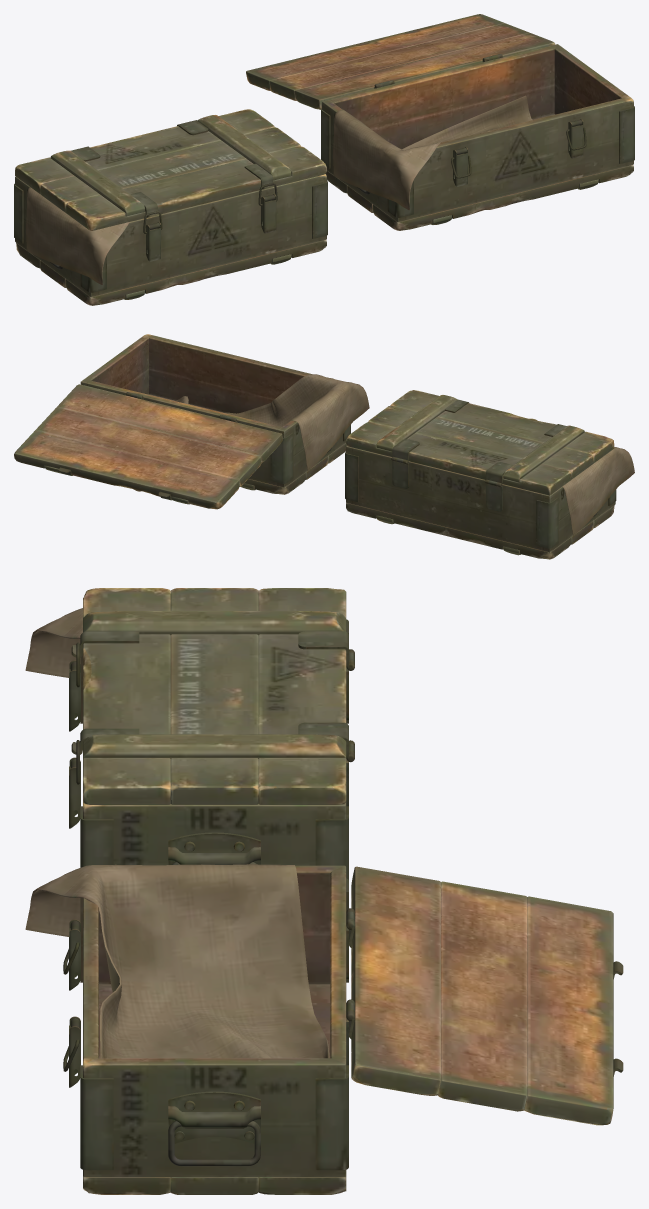
File: old_military_crate.glb
3 views of the same model, one above another, from view 1: azimuth 30°, elevation 25°; view 2: azimuth 150°, elevation 25°; view 3: azimuth 270°, elevation 25° (orthographic). The views are drawn at different scales.
Visible parts, largest first — view 1: old_military_crate_lid_a; view 2: old_military_crate_lid_a; view 3: old_military_crate_lid_a.
Part boxes in pixels (box(x1,y1,x2,y2)): old_military_crate_lid_a: box(14, 14, 634, 305); old_military_crate_lid_a: box(14, 334, 634, 559); old_military_crate_lid_a: box(25, 588, 623, 1194).
Size of the model in its own units: 1.82 by 0.3009 by 0.9756.
Materials: 1 (1 with a texture image).
